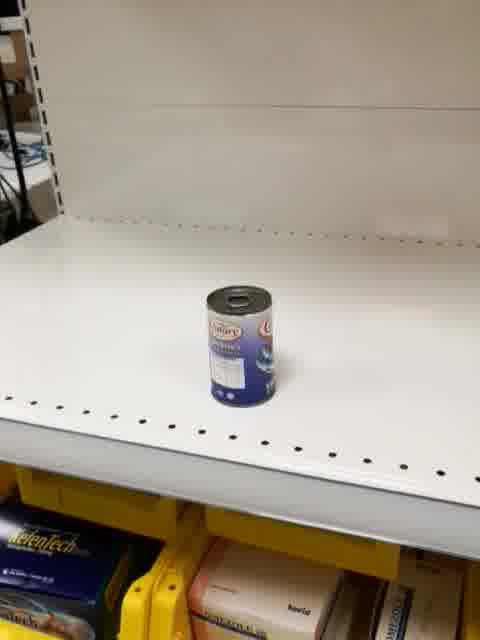sardine: (203, 284, 277, 410)
